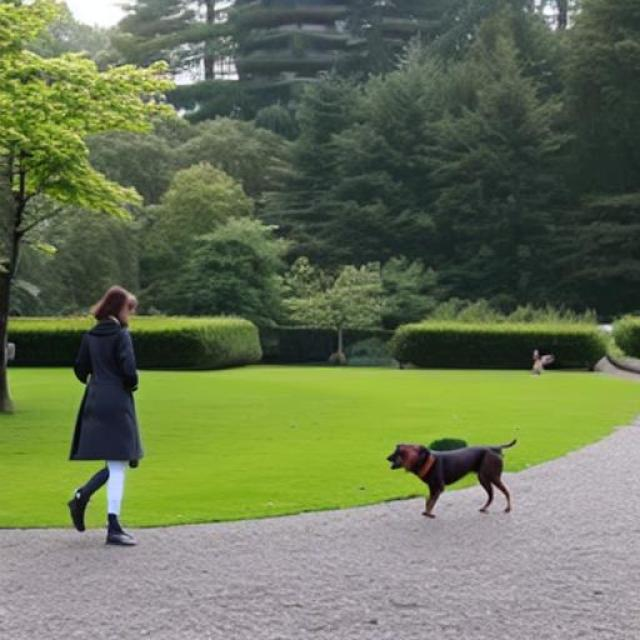Unleashed_Dog: (67, 440, 520, 520)
